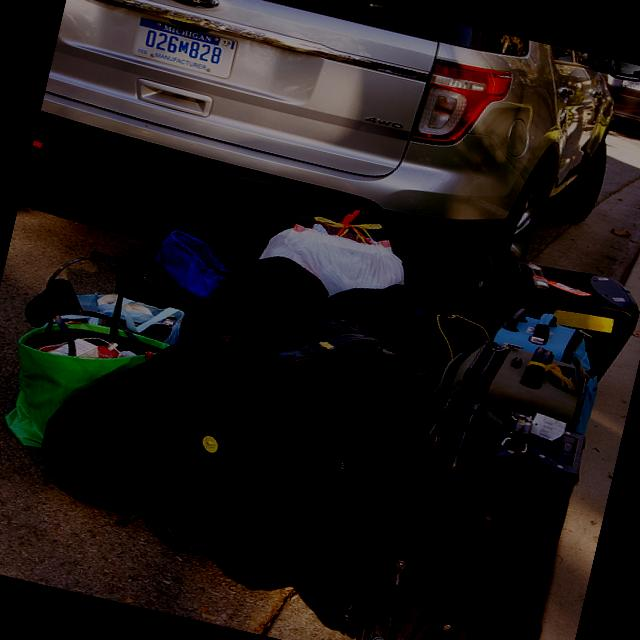Vehicle: (20, 0, 640, 328), (592, 58, 640, 142)
